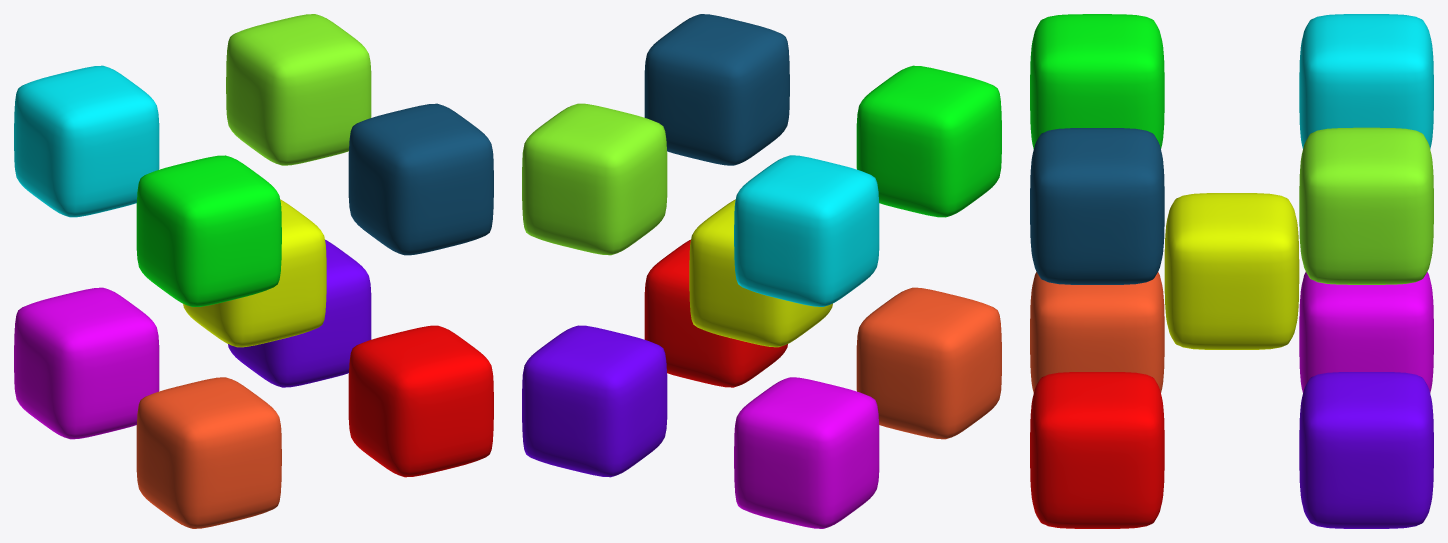
3 views of the same model, side by side, from view 1: azimuth 30°, elevation 25°; view 2: azimuth 150°, elevation 25°; view 3: azimuth 270°, elevation 25° (orthographic). The views are drawn at different scales.
Parts seen in each view (by area): view 1: Объект_Куб_3, Объект_Куб_4, Объект_Куб_8, Объект_Куб_7, Объект_Куб_5, Объект_Куб_1, Объект_Куб_6, Объект_Куб_9, Объект_Куб_2; view 2: Объект_Куб_6, Объект_Куб_1, Объект_Куб_2, Объект_Куб_5, Объект_Куб_4, Объект_Куб_7, Объект_Куб_8, Объект_Куб_9, Объект_Куб_3; view 3: Объект_Куб_1, Объект_Куб_9, Объект_Куб_2, Объект_Куб_3, Объект_Куб_4, Объект_Куб_5, Объект_Куб_8, Объект_Куб_6, Объект_Куб_7.
Part boxes in pixels (bbox=[...]): Объект_Куб_3: bbox=[348, 325, 493, 477]; Объект_Куб_4: bbox=[348, 103, 493, 255]; Объект_Куб_8: bbox=[136, 155, 281, 306]; Объект_Куб_7: bbox=[136, 377, 281, 528]; Объект_Куб_5: bbox=[14, 65, 159, 217]; Объект_Куб_1: bbox=[226, 14, 371, 165]; Объект_Куб_6: bbox=[14, 287, 159, 439]; Объект_Куб_9: bbox=[183, 199, 326, 347]; Объект_Куб_2: bbox=[228, 239, 371, 387]; Объект_Куб_6: bbox=[734, 377, 879, 528]; Объект_Куб_1: bbox=[522, 103, 667, 255]; Объект_Куб_2: bbox=[522, 325, 667, 477]; Объект_Куб_5: bbox=[734, 155, 879, 306]; Объект_Куб_4: bbox=[644, 14, 789, 165]; Объект_Куб_7: bbox=[856, 287, 1001, 439]; Объект_Куб_8: bbox=[856, 65, 1001, 217]; Объект_Куб_9: bbox=[689, 199, 832, 347]; Объект_Куб_3: bbox=[644, 239, 787, 387]; Объект_Куб_1: bbox=[1299, 127, 1433, 284]; Объект_Куб_9: bbox=[1164, 193, 1299, 349]; Объект_Куб_2: bbox=[1299, 372, 1433, 528]; Объект_Куб_3: bbox=[1030, 372, 1164, 528]; Объект_Куб_4: bbox=[1030, 128, 1164, 284]; Объект_Куб_5: bbox=[1299, 14, 1433, 148]; Объект_Куб_8: bbox=[1030, 14, 1164, 148]; Объект_Куб_6: bbox=[1299, 272, 1433, 392]; Объект_Куб_7: bbox=[1030, 272, 1164, 392].
Bounding box in the file's own units: 0.9996 × 0.9993 × 0.9993.
